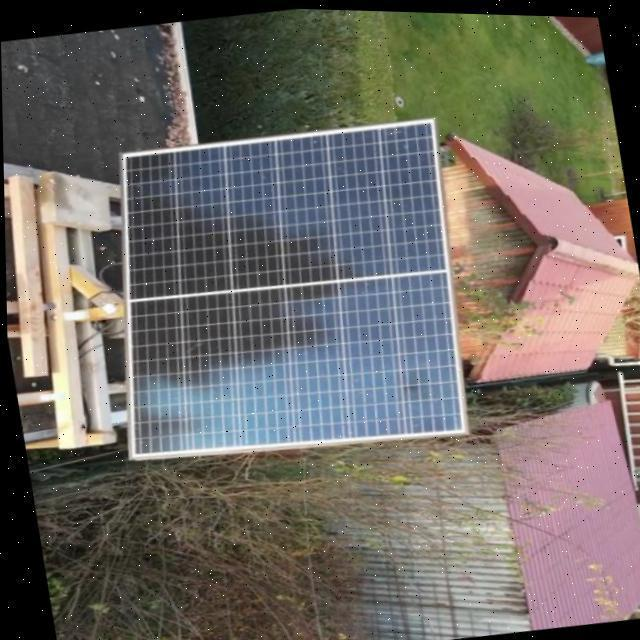Normal Solar Panel: (80, 108, 480, 475)
